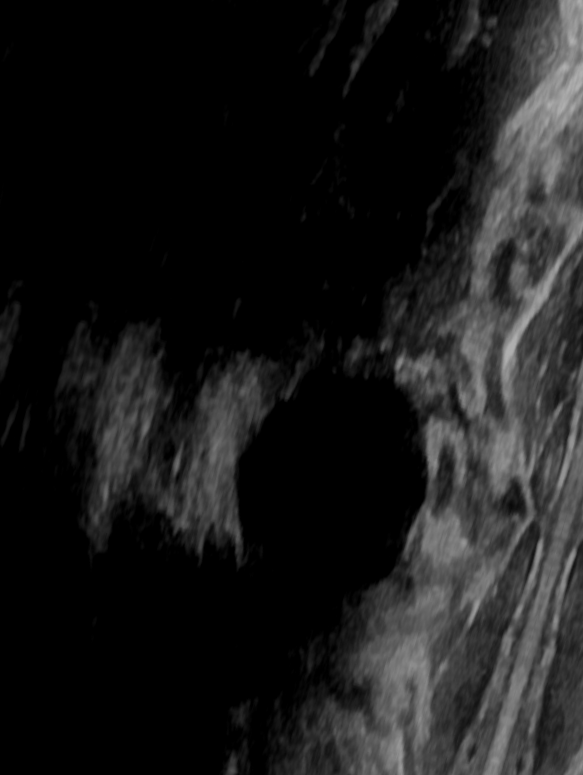Benign: (233, 374, 438, 587)
